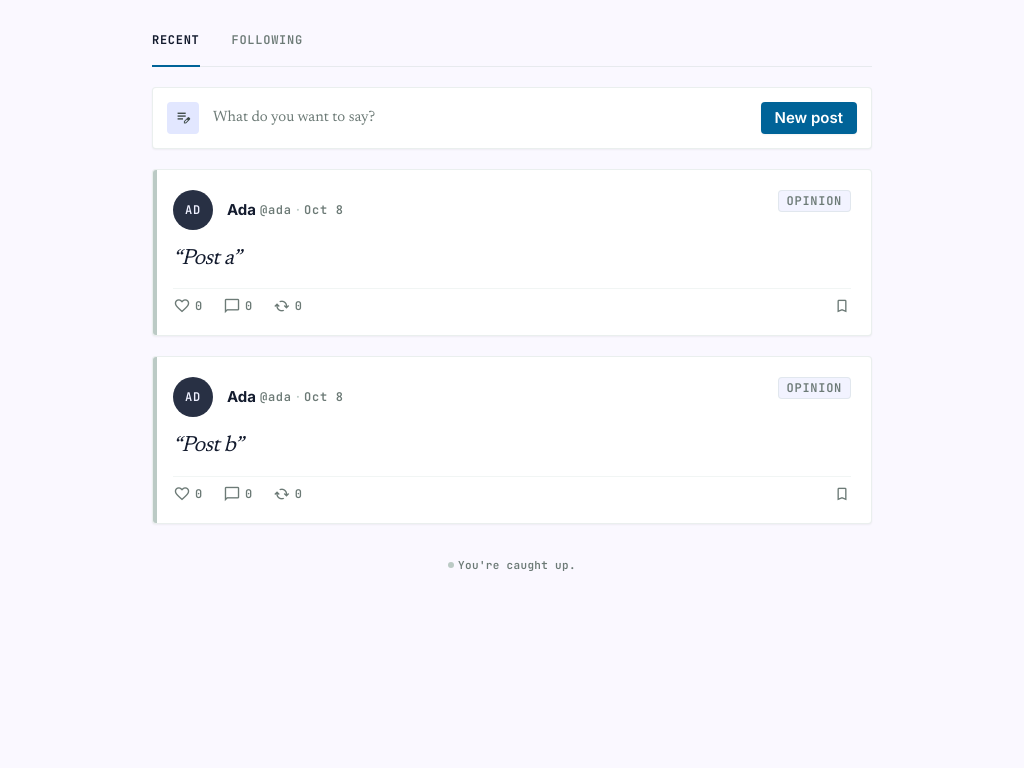
Test case: HomeFeed › doesn't repeat a post the server's page already has
Click the button "What do you want to say? New post": (183,118) [167,102,857,134]
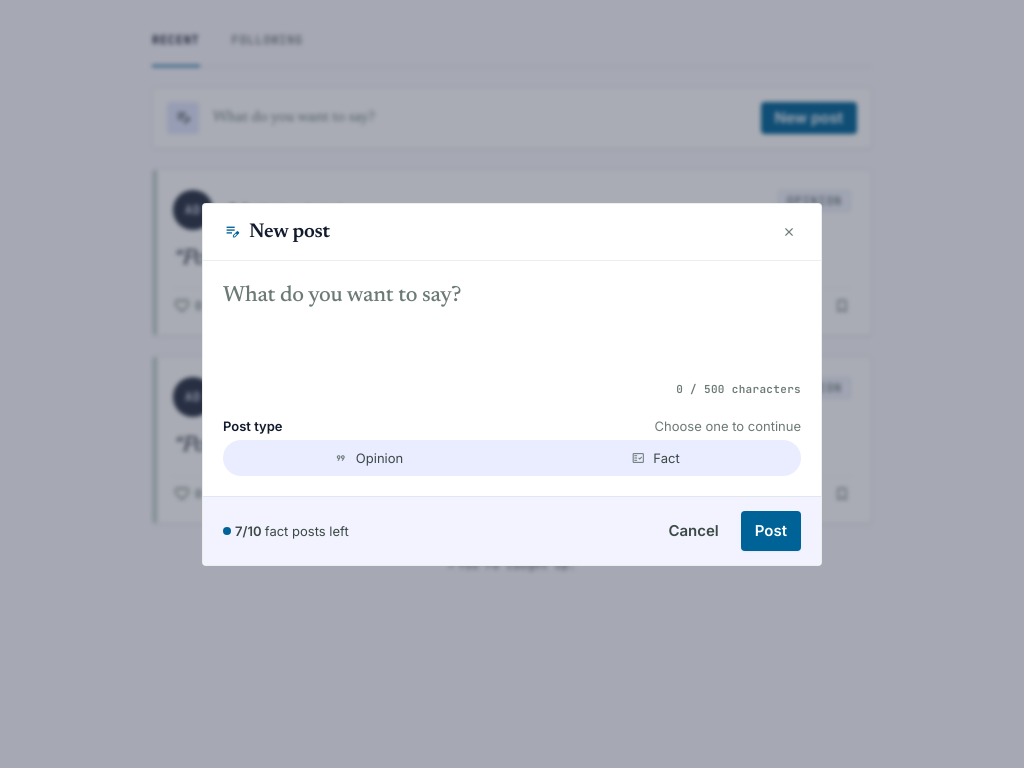
Click the radio button labelled "Opinion": (368,458) [227,444,510,472]
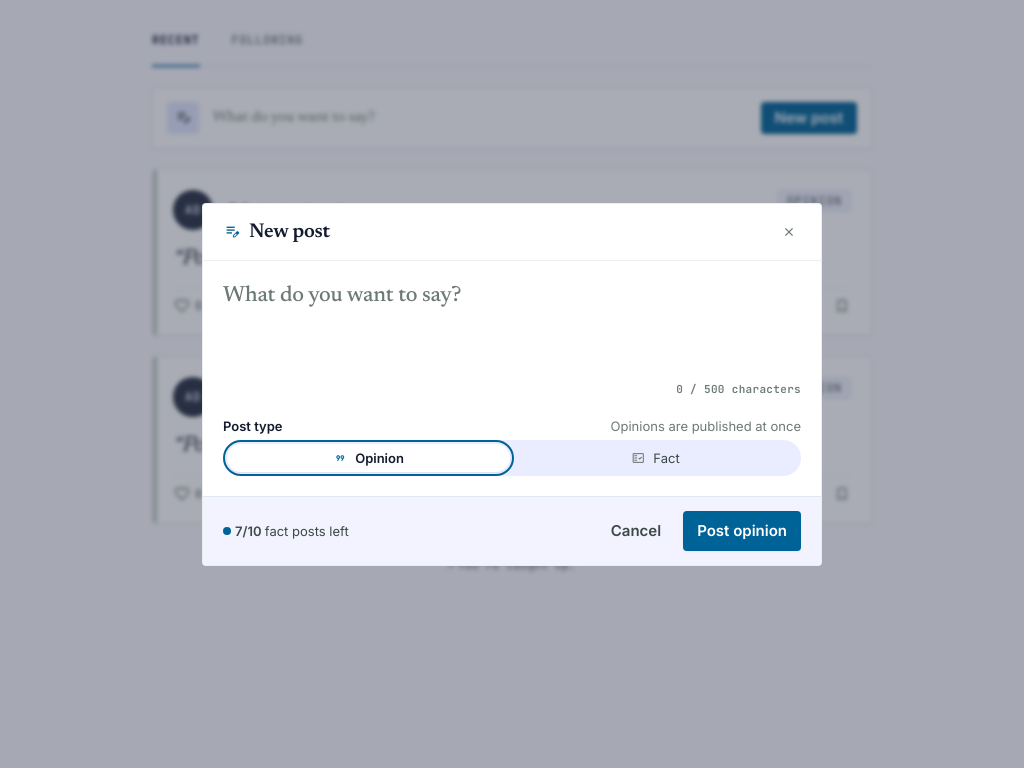
In the text box named "Post text": (512,326) [223,280,801,370], type "x"
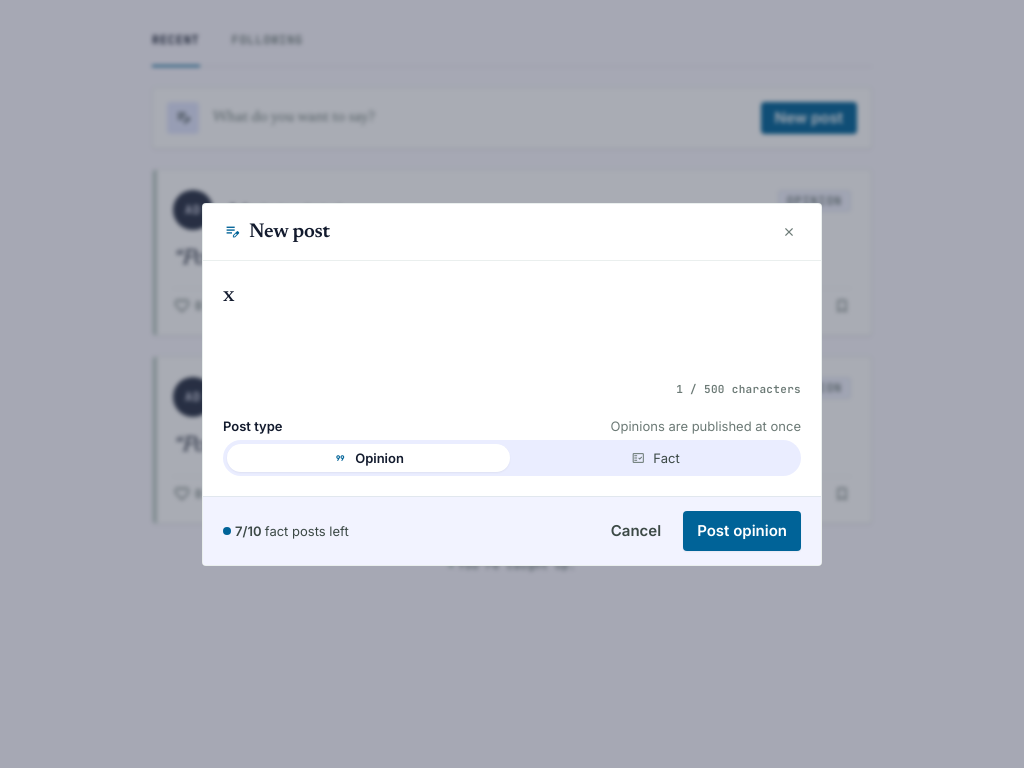
Click the button "Post opinion": (742,530) [683,510,801,550]
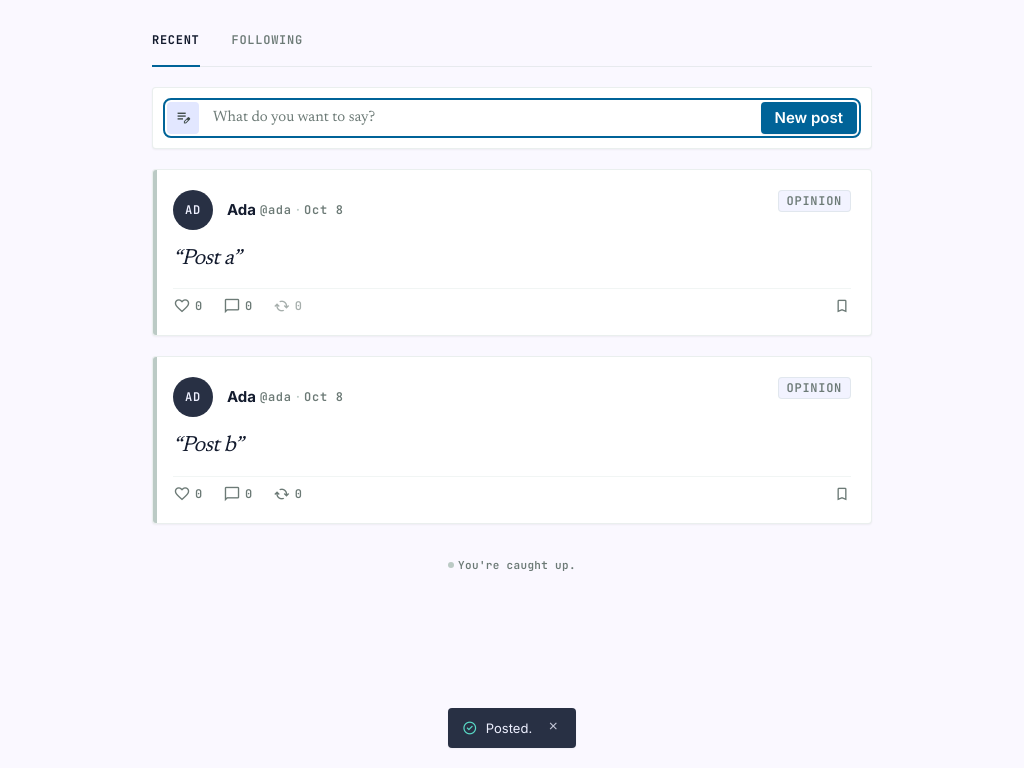
Result: the dialog is gone
